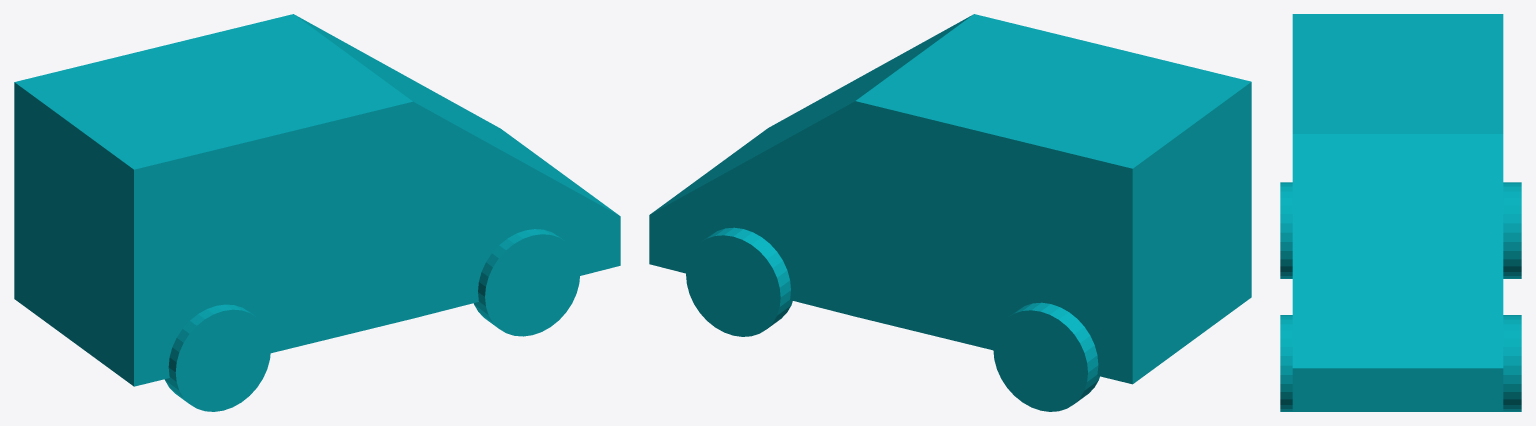
Rendered from car.fbx.
3 renders of one model, left to right at view 1: azimuth 30°, elevation 25°; view 2: azimuth 150°, elevation 25°; view 3: azimuth 270°, elevation 25°, orthographic. The views are drawn at different scales.
Parts seen in each view (by area): view 1: car; view 2: car; view 3: car.
Boxes of the visible parts, x1,y1,x2,y2 form: car: [14, 14, 620, 411]; car: [649, 14, 1251, 411]; car: [1280, 14, 1521, 411].
Bounding box in the file's own units: 4.69 × 2.36 × 2.29.
